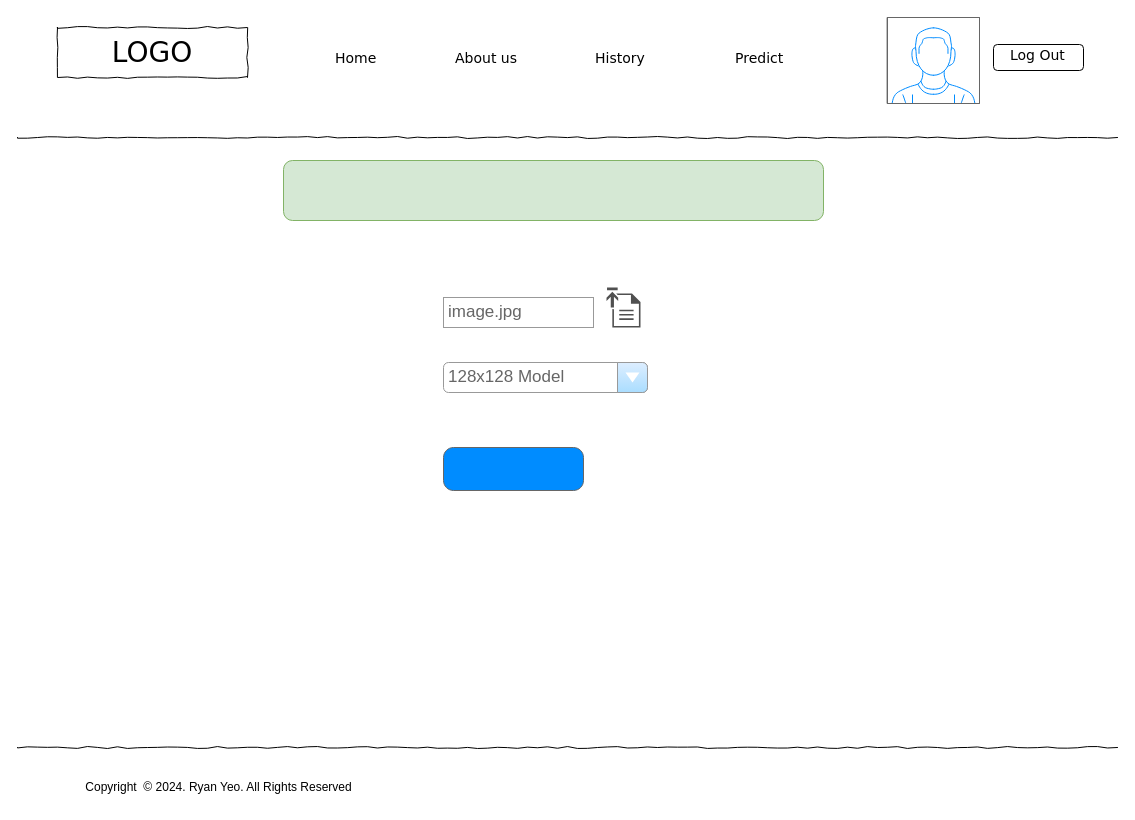
Image size: 1135x820. Some labels were removed from this diagram. The centre of each missing label's shape, as x and y in pixels:
"Predicted Vegetable: Bottle Gourd Confidence: 98.7%" belongs at point 553,190.
"Submit" belongs at point 513,468.
